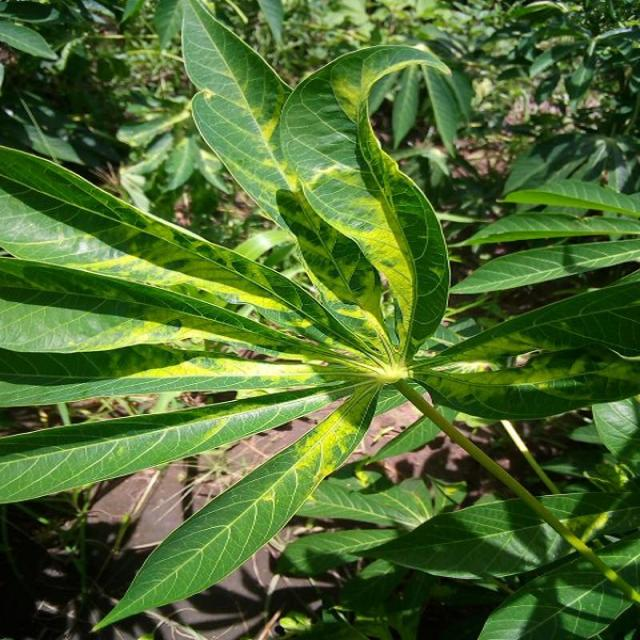cassava leaf: (0, 1, 638, 636), (277, 41, 455, 360)
